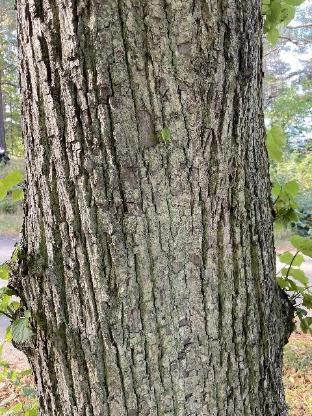tree: (11, 0, 297, 416)
